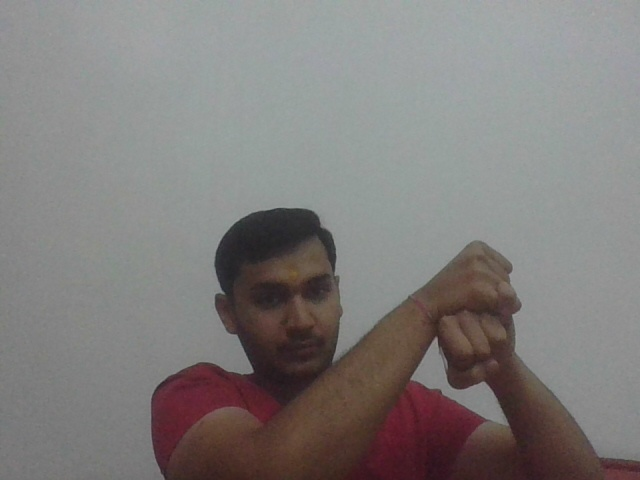S: (427, 235, 527, 389)
